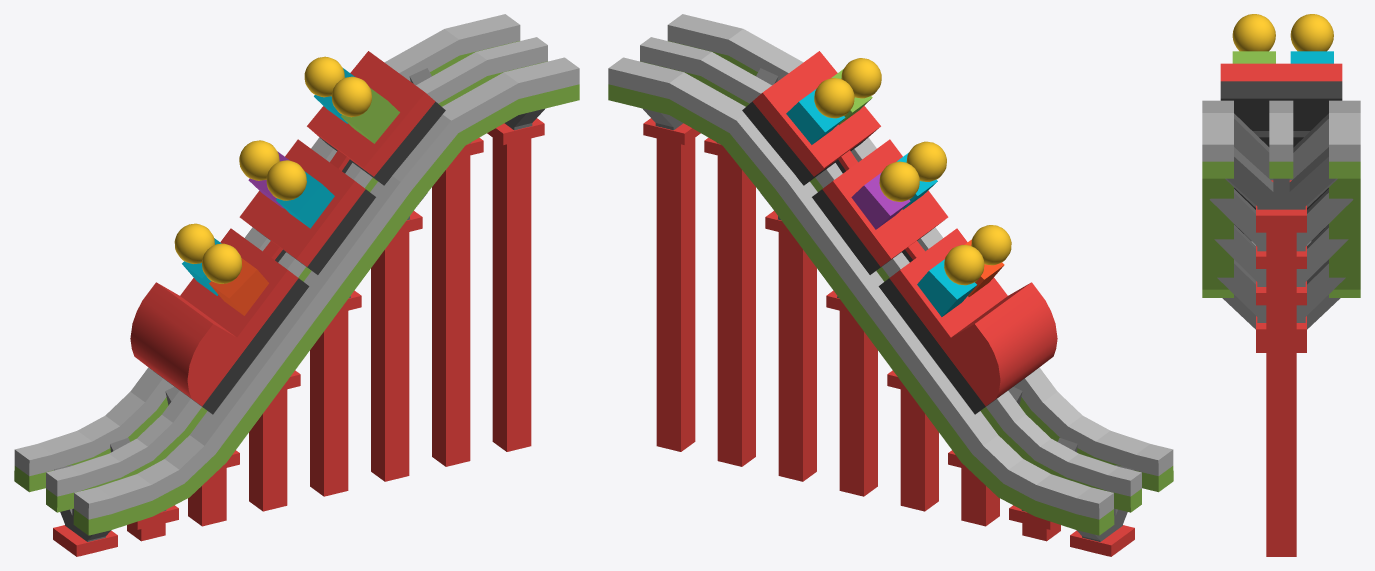
The model's file is roller_coaster.glb.
3 views of the same model, side by side, from view 1: azimuth 30°, elevation 25°; view 2: azimuth 150°, elevation 25°; view 3: azimuth 270°, elevation 25° (orthographic). The views are drawn at different scales.
Parts seen in each view (by area): view 1: Cube.542, Cube.543, Cube.553; view 2: Cube.542, Cube.543, Cube.553; view 3: Cube.542, Cube.543, Cube.553, Cube.544, Cube.547, Cube.545, Cube.549, Cube.550, Cube.551.
Boxes of the visible parts, box(x1,y1,x2,y2) form: Cube.542: box(14, 14, 579, 535); Cube.543: box(53, 118, 544, 556); Cube.553: box(130, 51, 445, 414); Cube.542: box(608, 14, 1173, 535); Cube.543: box(643, 118, 1134, 556); Cube.553: box(742, 51, 1057, 414); Cube.542: box(1202, 100, 1360, 297); Cube.543: box(1256, 180, 1306, 556); Cube.553: box(1220, 14, 1342, 240); Cube.544: box(1227, 147, 1335, 209); Cube.547: box(1209, 189, 1353, 251); Cube.545: box(1234, 113, 1328, 180); Cube.549: box(1214, 224, 1348, 286); Cube.550: box(1217, 259, 1345, 322); Cube.551: box(1222, 295, 1340, 329).
Bounding box in the file's own units: 2.26 × 1.83 × 0.5903.
1 material, 1 textured.
